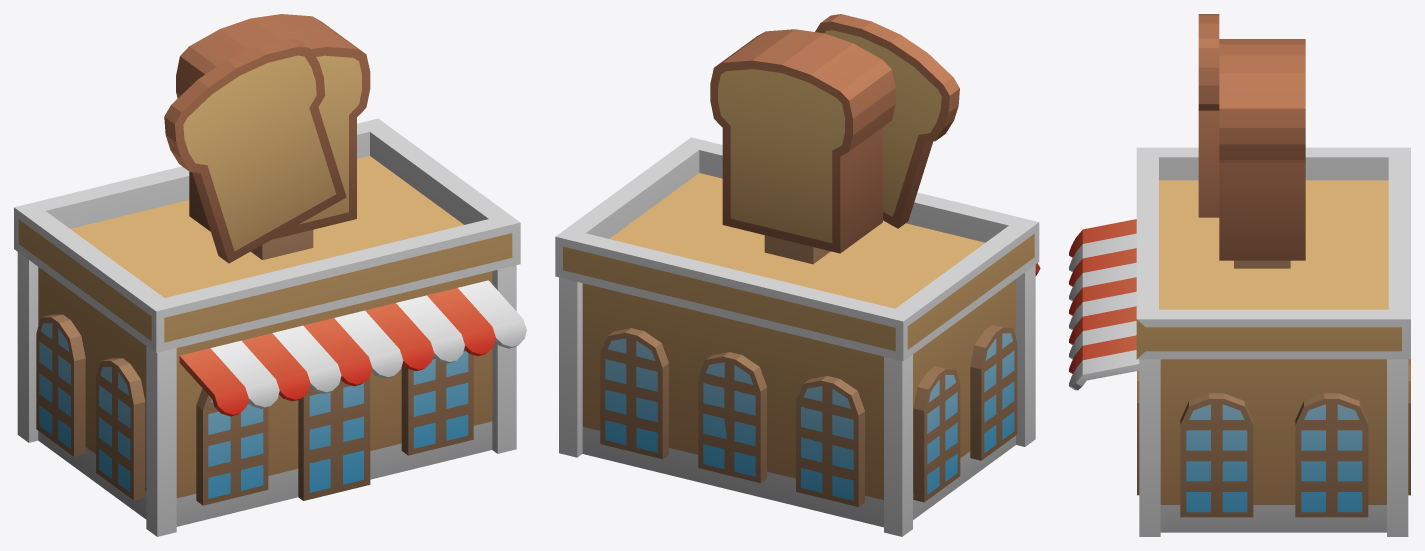
Rendered from bakery.fbx.
3 renders of one model, left to right at view 1: azimuth 30°, elevation 25°; view 2: azimuth 150°, elevation 25°; view 3: azimuth 270°, elevation 25°, orthographic. The views are drawn at different scales.
Visible parts, largest first — view 1: bakery_house; view 2: bakery_house; view 3: bakery_house.
Part boxes in pixels (x1,y1,x2,y2): bakery_house: (14,14,526,536); bakery_house: (555,14,1040,536); bakery_house: (1069,14,1410,536).
Bounding box in the file's own units: 552 × 616 × 465.
1 material, 1 textured.
